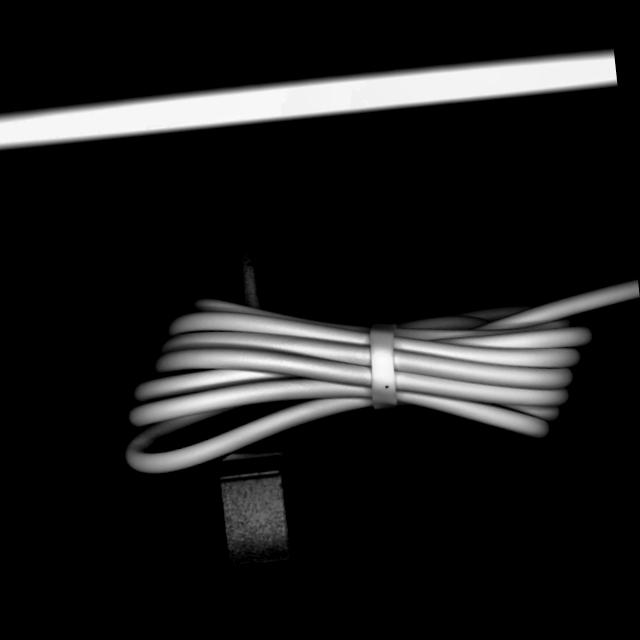Cable: (103, 246, 640, 487)
